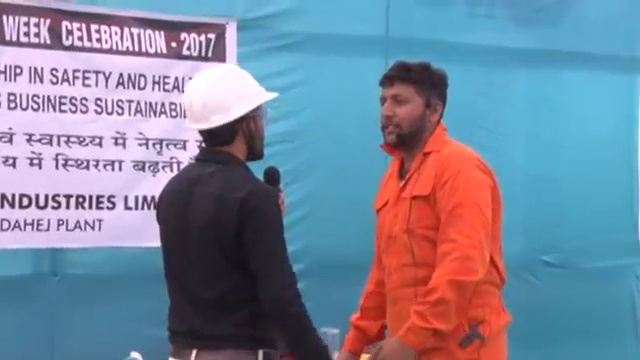helmet: (183, 64, 279, 129)
helmet_off: (377, 61, 449, 151)
helmet_on: (181, 64, 279, 165)
person: (331, 59, 513, 358), (148, 64, 328, 360)
